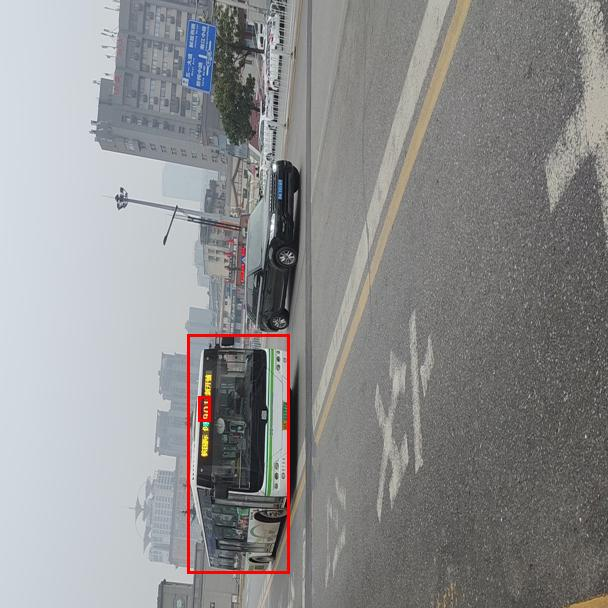bus: (187, 334, 289, 573)
screen: (198, 396, 210, 421)
